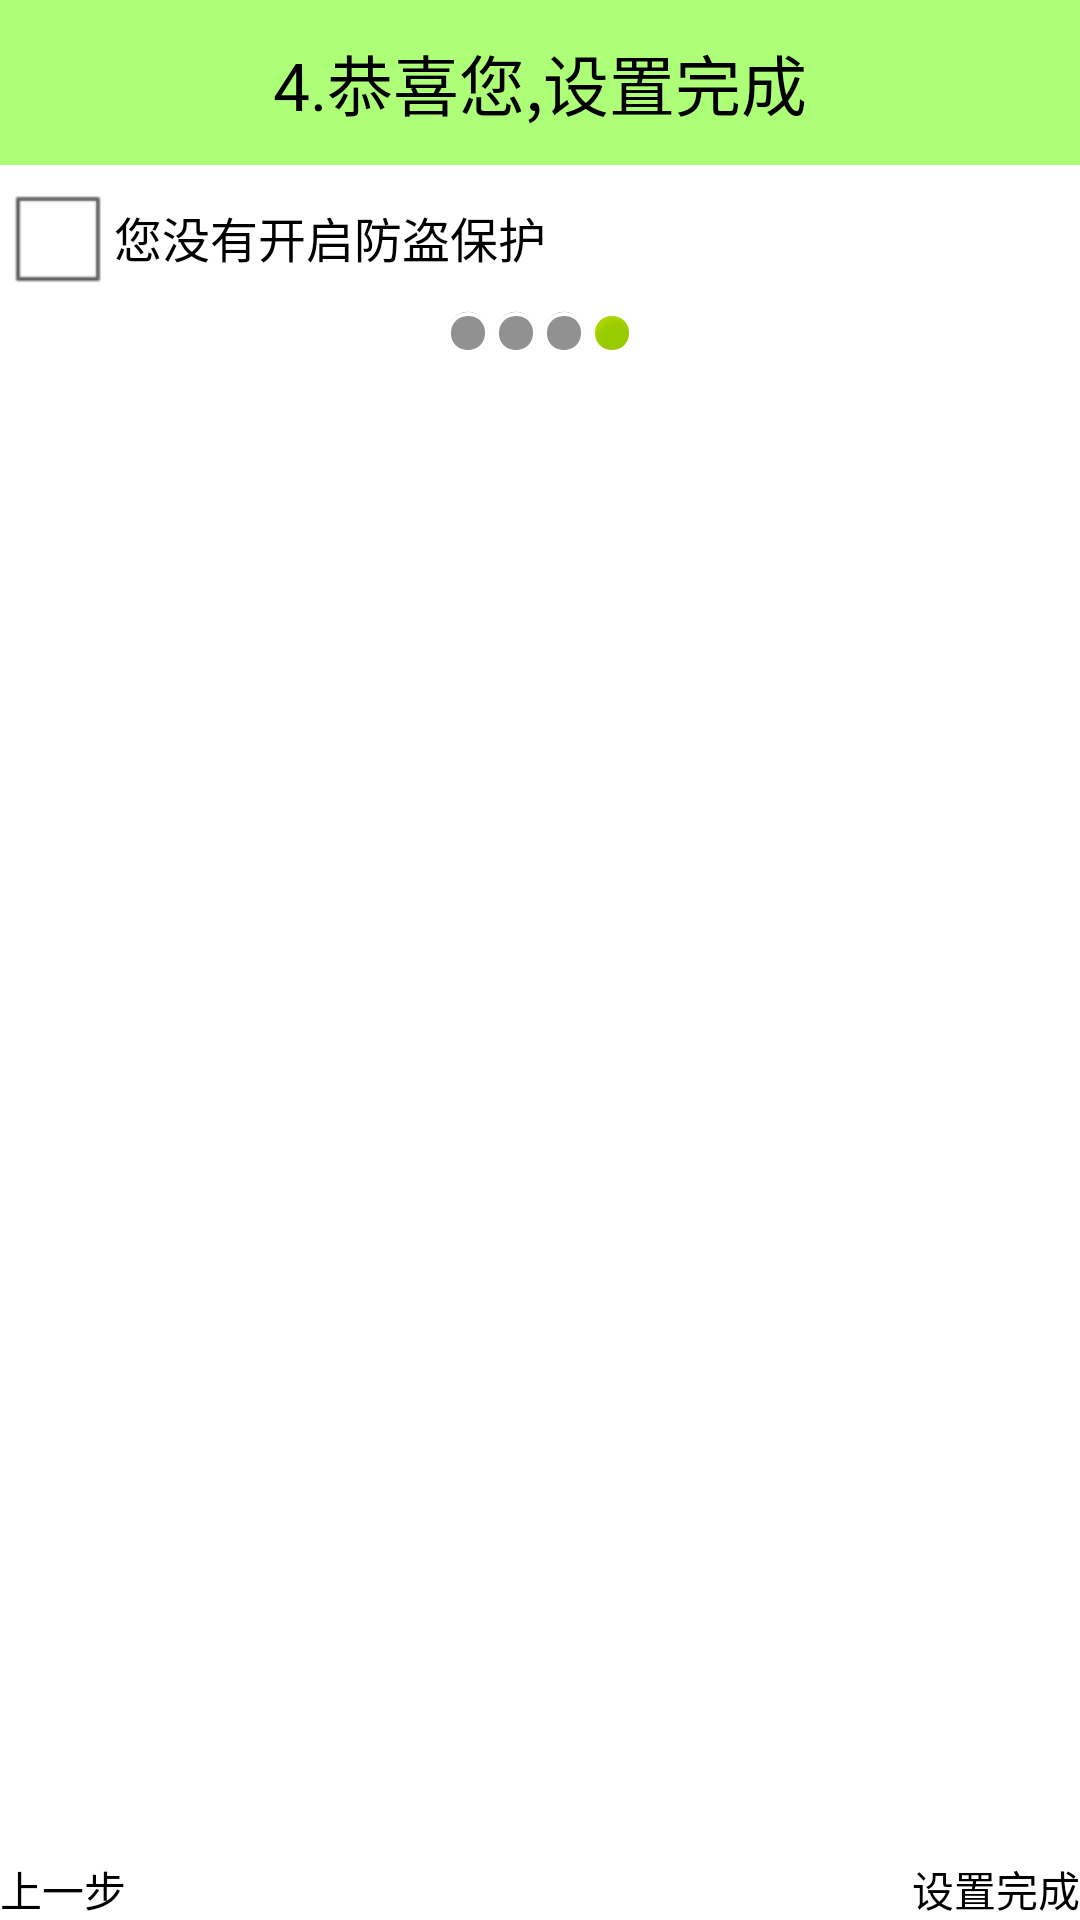

Named icons in this screenshot (1080w x 1920h) and their bounding boxes, box(x1, y1, x2, y2):
presence invisible: box(451, 312, 485, 350), box(499, 312, 533, 350), box(547, 312, 581, 350)
presence online: box(595, 316, 629, 350)
